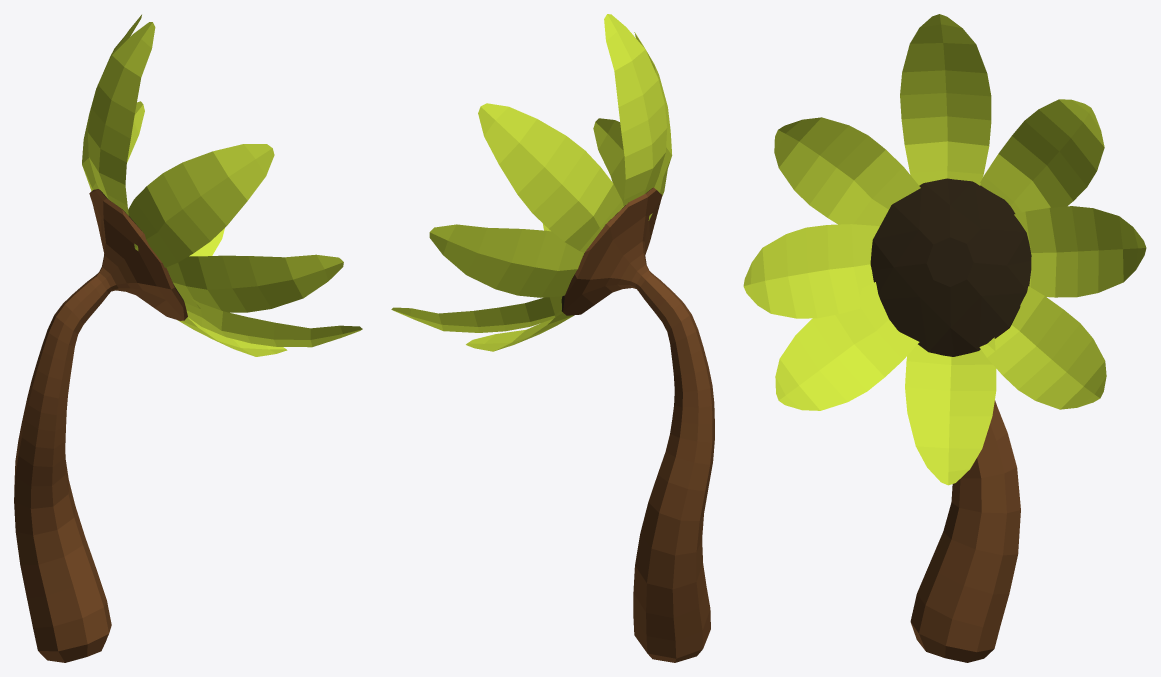
Rendered from sunflower.glb.
3 views of the same model, side by side, from view 1: azimuth 30°, elevation 25°; view 2: azimuth 150°, elevation 25°; view 3: azimuth 270°, elevation 25° (orthographic). The views are drawn at different scales.
Visible parts, largest first — view 1: stem, Plane.032, Plane.031, Plane.029, Plane.034, Plane.033, Plane.030; view 2: stem, Plane.030, Plane.036, Plane.029, Plane.035, Plane.031, Plane.033, Plane.032; view 3: stem, Plane.029, Plane.032, Plane.034, Plane.031, Plane.033, Plane.030, Plane.035, Plane.036.
Boxes of the visible parts, x1,y1,x2,y2 form: stem: [14, 189, 187, 662]; Plane.032: [128, 144, 274, 267]; Plane.031: [166, 254, 343, 312]; Plane.029: [87, 22, 155, 215]; Plane.034: [185, 297, 362, 347]; Plane.033: [177, 317, 287, 356]; Plane.030: [82, 14, 141, 191]; stem: [561, 187, 714, 662]; Plane.030: [478, 103, 623, 252]; Plane.036: [429, 224, 584, 297]; Plane.029: [604, 14, 667, 206]; Plane.035: [391, 296, 562, 332]; Plane.031: [593, 118, 625, 203]; Plane.033: [466, 313, 573, 351]; Plane.032: [634, 32, 672, 220]; stem: [870, 178, 1031, 662]; Plane.029: [900, 14, 991, 185]; Plane.032: [774, 117, 920, 225]; Plane.034: [775, 282, 919, 410]; Plane.031: [743, 224, 879, 318]; Plane.033: [905, 337, 996, 485]; Plane.030: [980, 99, 1104, 232]; Plane.035: [979, 286, 1106, 409]; Plane.036: [1014, 206, 1146, 297].
Size of the model in its own units: 1.14 by 2.57 by 1.37.
